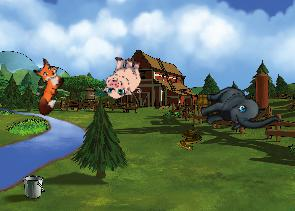elephant: (194, 71, 281, 151)
fox: (18, 56, 71, 117)
pig: (101, 54, 145, 101)
